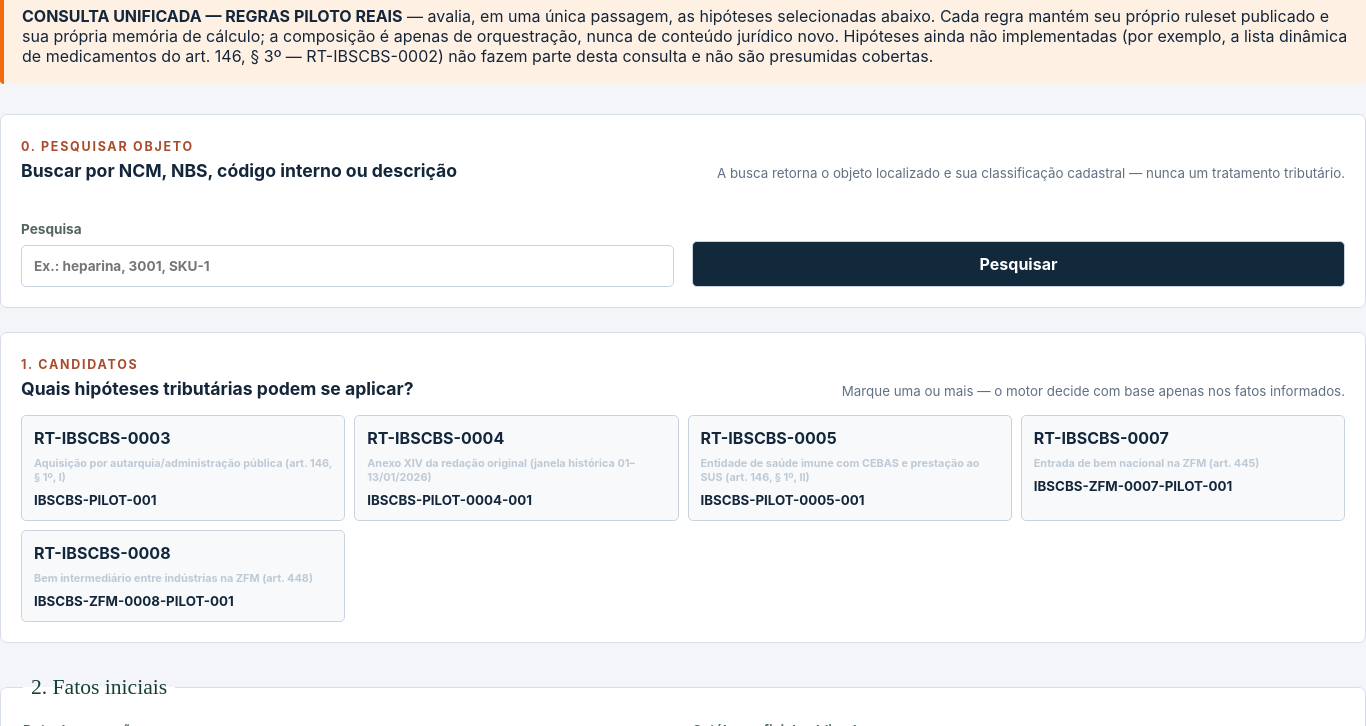
Test: UnifiedConsultation › merges the field sets of every selected rule and dedupes shared facts
Click the button "RT-IBSCBS-0007" at (1183, 468), box x1=1021 y1=415 x2=1345 y2=521
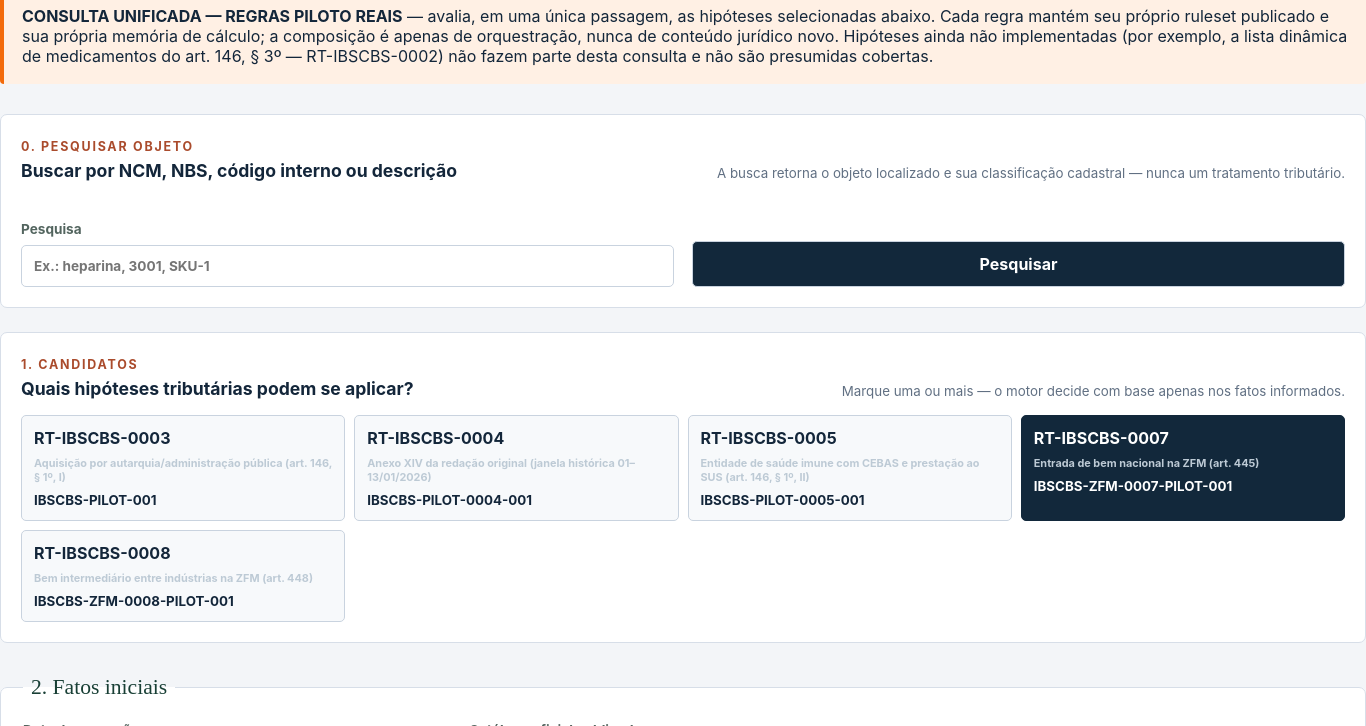
Click the button "RT-IBSCBS-0008" at (183, 576), box x1=21 y1=530 x2=345 y2=622
(page scrolled)
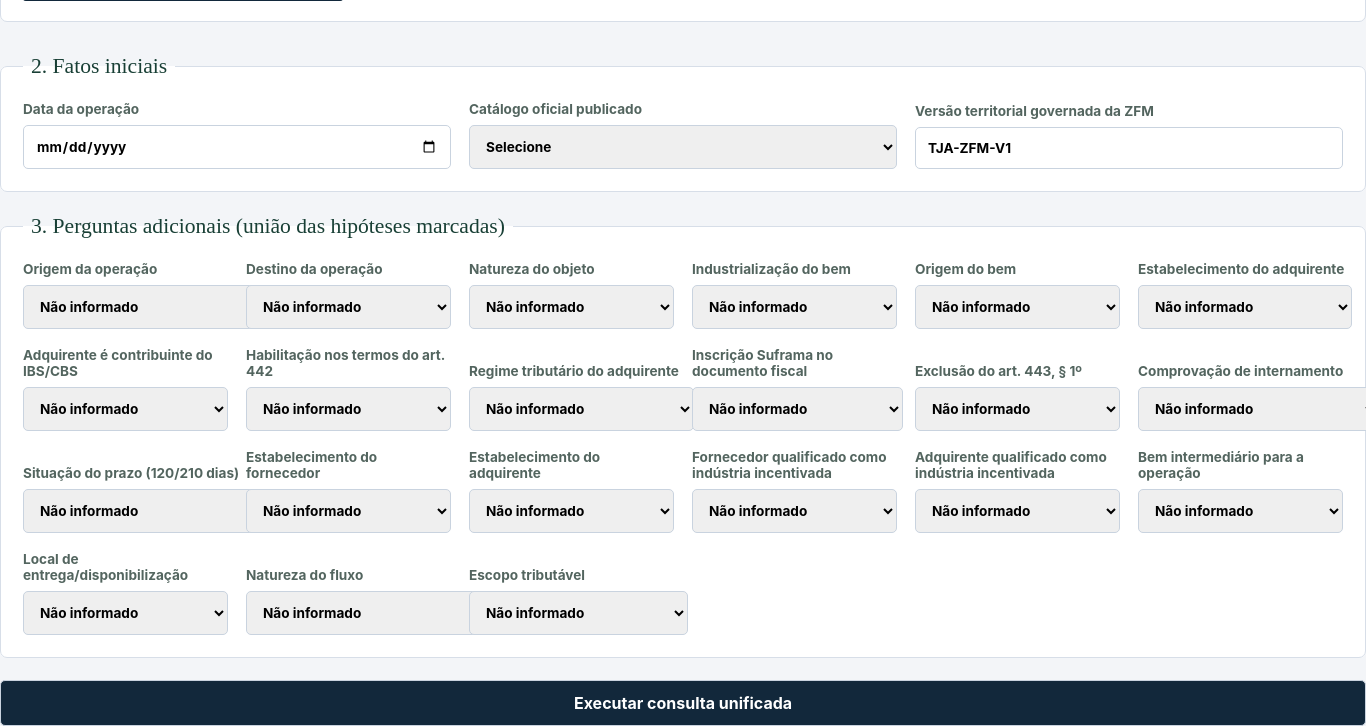
expect the dropdown labelled "Origem da operação" is shown: met, box x1=23 y1=285 x2=296 y2=329
expect the number of dropdowns labelled "Natureza do objeto" is 1: met, box x1=469 y1=285 x2=674 y2=329
expect the dropdown labelled "Estabelecimento do fornecedor" is shown: met, box x1=246 y1=489 x2=451 y2=533
